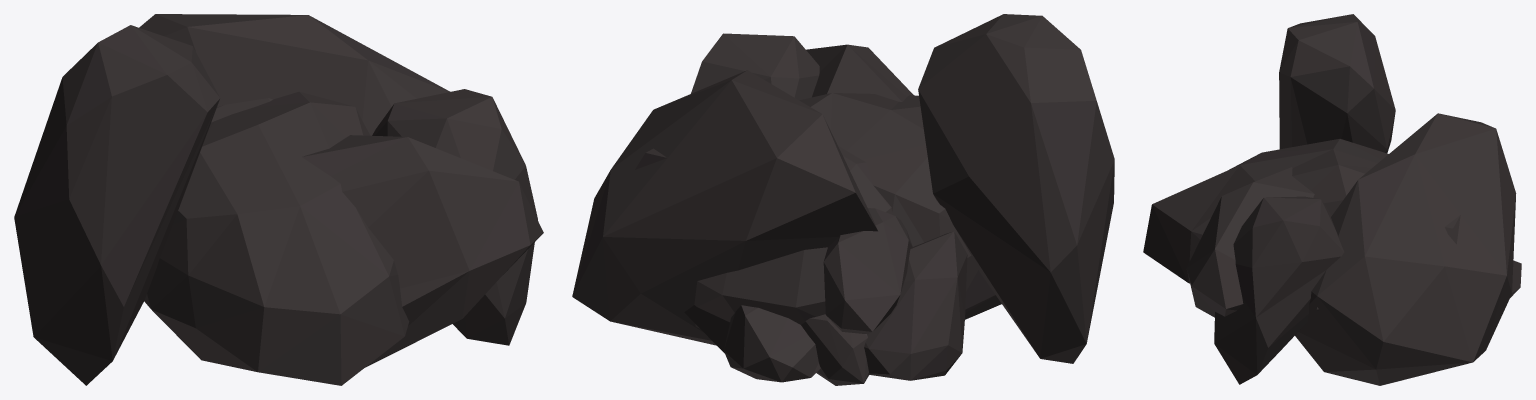
File: BigRocks.fbx
The picture shows the model from 3 angles, left to right: view 1: azimuth 30°, elevation 25°; view 2: azimuth 150°, elevation 25°; view 3: azimuth 270°, elevation 25°; orthographic projection. The views are drawn at different scales.
Visible parts, largest first — view 1: BigRock.001, BigRock.004, BigRock; view 2: BigRock.001, BigRock.004, BigRock, BigRock.007; view 3: BigRock.004, BigRock.001.
Part boxes in pixels (bbox=[...]): BigRock.001: bbox=[14, 25, 537, 385]; BigRock.004: bbox=[139, 14, 543, 367]; BigRock: bbox=[211, 98, 272, 122]; BigRock.001: bbox=[691, 14, 1114, 385]; BigRock.004: bbox=[572, 44, 913, 382]; BigRock: bbox=[635, 145, 892, 328]; BigRock.007: bbox=[684, 305, 729, 353]; BigRock.004: bbox=[1186, 113, 1521, 385]; BigRock.001: bbox=[1143, 14, 1395, 384].
Size of the model in its own units: 5.78 by 4.19 by 5.27.
